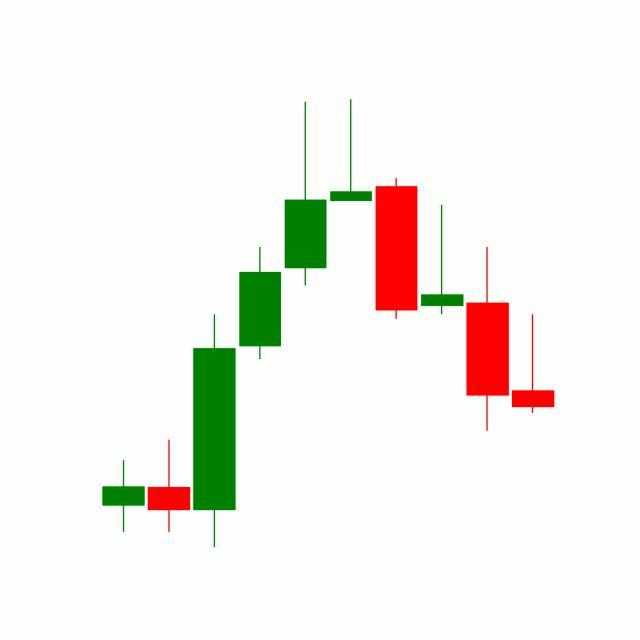Hikkake Pattern: (283, 100, 512, 436)
